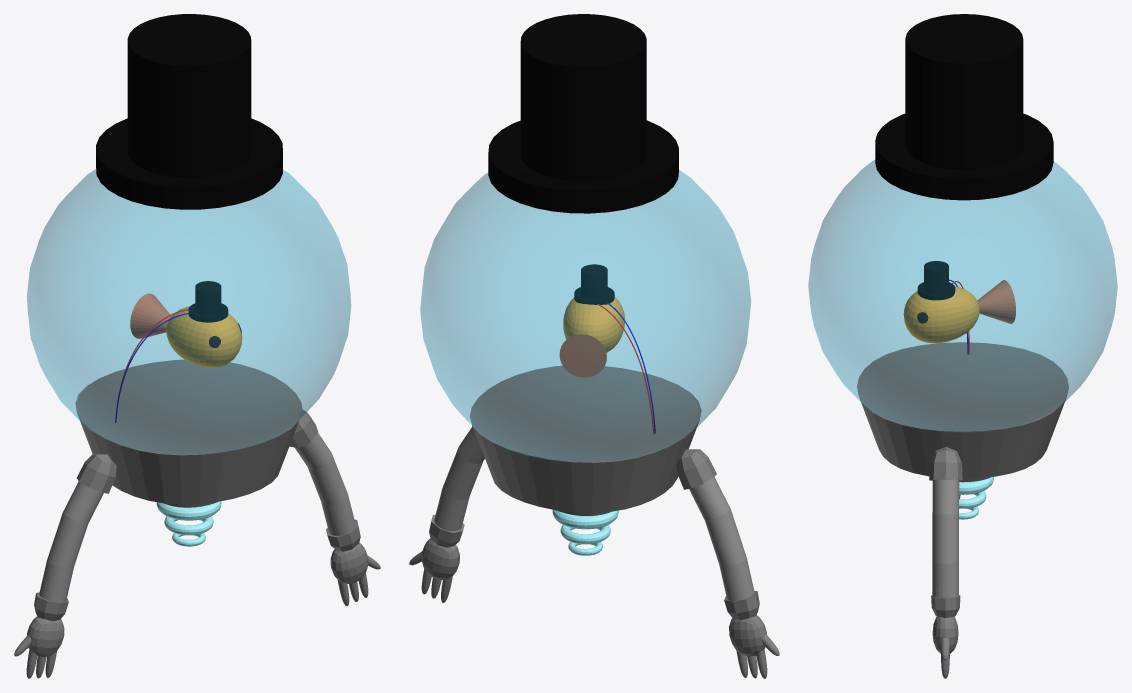
File: fishbot.glb
3 views of the same model, side by side, from view 1: azimuth 30°, elevation 25°; view 2: azimuth 150°, elevation 25°; view 3: azimuth 270°, elevation 25° (orthographic). The views are drawn at different scales.
Visible parts, largest first — view 1: Cube.002_primitive10, Cube.002_primitive2, Cube.002_primitive7, Cube.002_primitive4, Cube.002_primitive5, Cube.002_primitive3, Cube.002_primitive11, Cube.002_primitive1, Cube.002_primitive6; view 2: Cube.002_primitive10, Cube.002_primitive2, Cube.002_primitive7, Cube.002_primitive4, Cube.002_primitive3, Cube.002_primitive5, Cube.002_primitive11, Cube.002_primitive1, Cube.002_primitive6; view 3: Cube.002_primitive10, Cube.002_primitive7, Cube.002_primitive2, Cube.002_primitive4, Cube.002_primitive5, Cube.002_primitive1, Cube.002_primitive6, Cube.002_primitive11, Cube.002_primitive3.
Part boxes in pixels (x1,y1,x2,y2): Cube.002_primitive10: (27,169,351,454); Cube.002_primitive2: (14,359,380,678); Cube.002_primitive7: (96,14,282,209); Cube.002_primitive4: (39,433,355,602); Cube.002_primitive5: (166,306,242,367); Cube.002_primitive3: (27,502,368,657); Cube.002_primitive11: (156,501,221,546); Cube.002_primitive1: (130,293,171,338); Cube.002_primitive6: (188,281,228,322); Cube.002_primitive10: (420,170,750,461); Cube.002_primitive2: (409,365,779,678); Cube.002_primitive7: (488,14,678,213); Cube.002_primitive4: (434,426,754,600); Cube.002_primitive3: (421,510,766,656); Cube.002_primitive5: (563,297,624,352); Cube.002_primitive11: (552,509,618,555); Cube.002_primitive1: (559,334,606,377); Cube.002_primitive6: (574,264,614,304); Cube.002_primitive10: (808,160,1117,432); Cube.002_primitive7: (875,14,1053,200); Cube.002_primitive2: (857,342,1068,678); Cube.002_primitive4: (932,479,959,597); Cube.002_primitive5: (903,286,979,343); Cube.002_primitive1: (977,280,1015,323); Cube.002_primitive6: (917,261,955,300); Cube.002_primitive11: (959,477,993,519); Cube.002_primitive3: (932,477,990,653).
Bounding box in the file's own units: 3.61 × 5.64 × 2.79.
